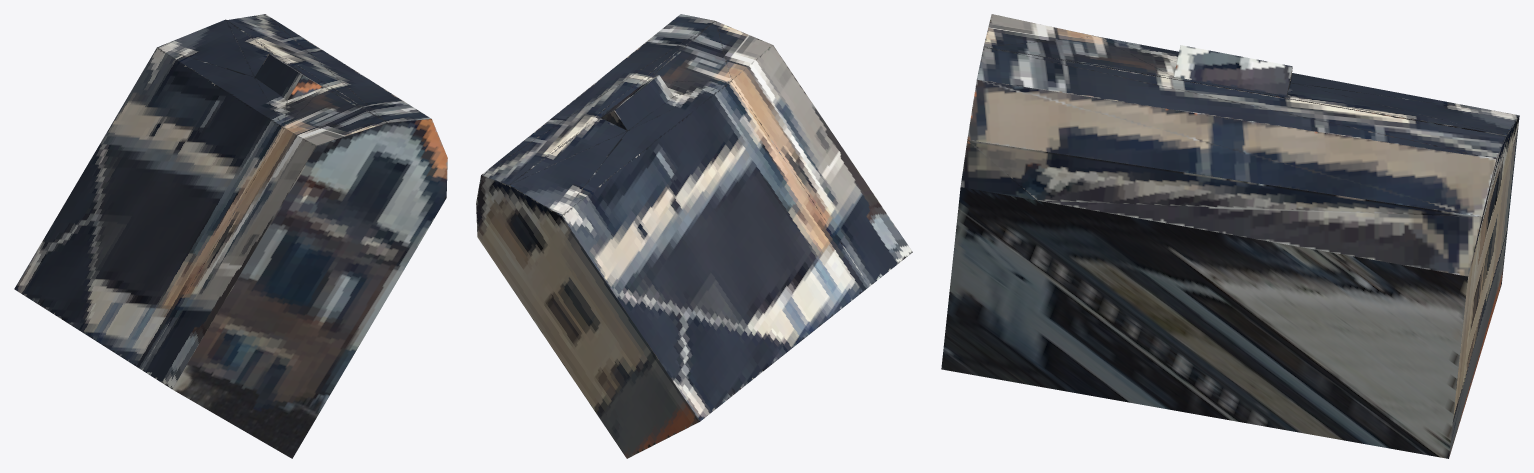
The picture shows the model from 3 angles, left to right: view 1: azimuth 30°, elevation 25°; view 2: azimuth 150°, elevation 25°; view 3: azimuth 270°, elevation 25°; orthographic projection. The views are drawn at different scales.
Parts seen in each view (by area): view 1: BAG_0599100000760481 (×4); view 2: BAG_0599100000760481 (×4); view 3: BAG_0599100000760481 (×3).
Part boxes in pixels (bbox=[...]): BAG_0599100000760481 (×4): bbox=[14, 14, 447, 458]; BAG_0599100000760481 (×4): bbox=[476, 14, 912, 458]; BAG_0599100000760481 (×3): bbox=[941, 14, 1519, 458].
Bounding box in the file's own units: 11.52 × 12.54 × 14.26.
Materials: 1 (1 with a texture image).
